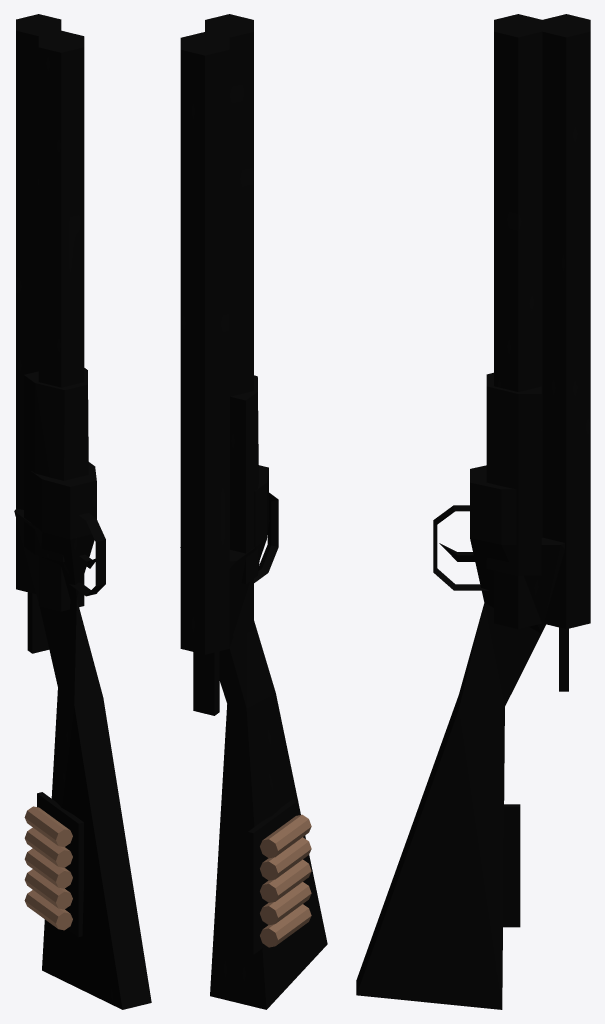
Rendered from Marlin336__Mount_ScopeBase__ShellHolder_Butt.fbx.
3 renders of one model, left to right at view 1: azimuth 30°, elevation 25°; view 2: azimuth 150°, elevation 25°; view 3: azimuth 270°, elevation 25°, orthographic. The views are drawn at different scales.
Parts seen in each view (by area): view 1: asset_Marlin336.001; view 2: asset_Marlin336.001; view 3: asset_Marlin336.001.
Part boxes in pixels (box(x1,y1,x2,y2)): asset_Marlin336.001: box(14, 14, 151, 1009); asset_Marlin336.001: box(180, 14, 327, 1009); asset_Marlin336.001: box(356, 14, 590, 1009).
Bounding box in the file's own units: 0.0449 × 0.582 × 0.1272.
